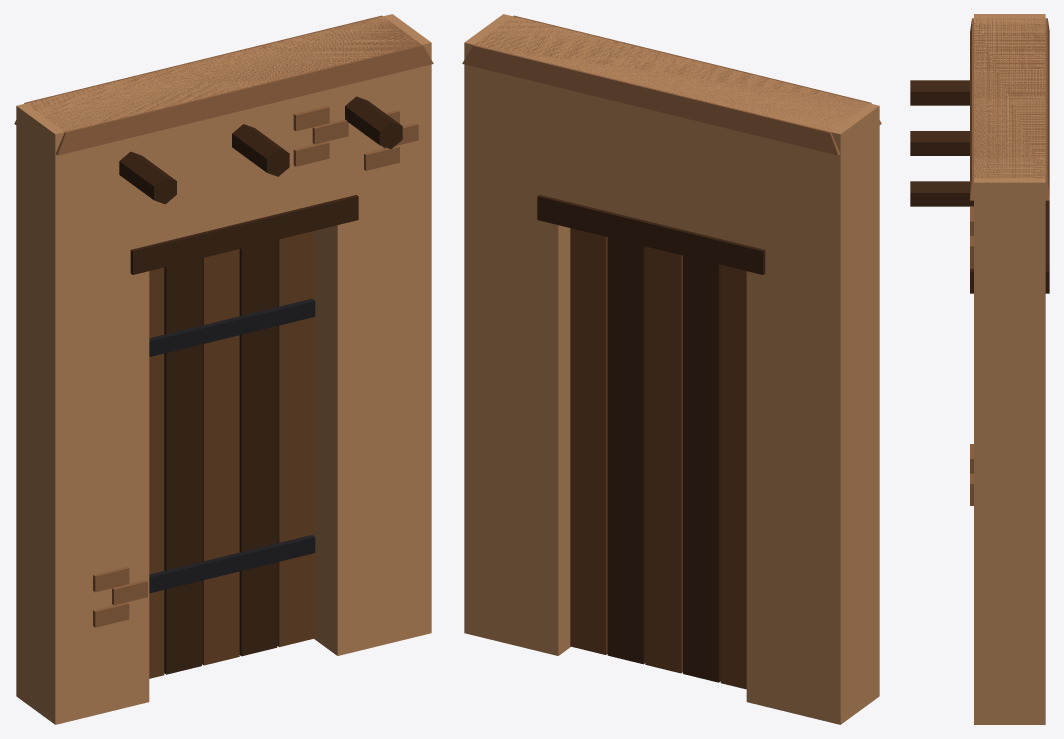
Rendered from SM_Wall_Adobe_Door.obj.
3 views of the same model, side by side, from view 1: azimuth 30°, elevation 25°; view 2: azimuth 150°, elevation 25°; view 3: azimuth 270°, elevation 25° (orthographic). The views are drawn at different scales.
Parts seen in each view (by area): view 1: SM_Wall_Adobe_Door; view 2: SM_Wall_Adobe_Door; view 3: SM_Wall_Adobe_Door.
Part boxes in pixels (x1,y1,x2,y2): SM_Wall_Adobe_Door: (14, 14, 433, 724); SM_Wall_Adobe_Door: (462, 14, 881, 724); SM_Wall_Adobe_Door: (910, 14, 1049, 724).
Bounding box in the file's own units: 2 × 3 × 0.7.
